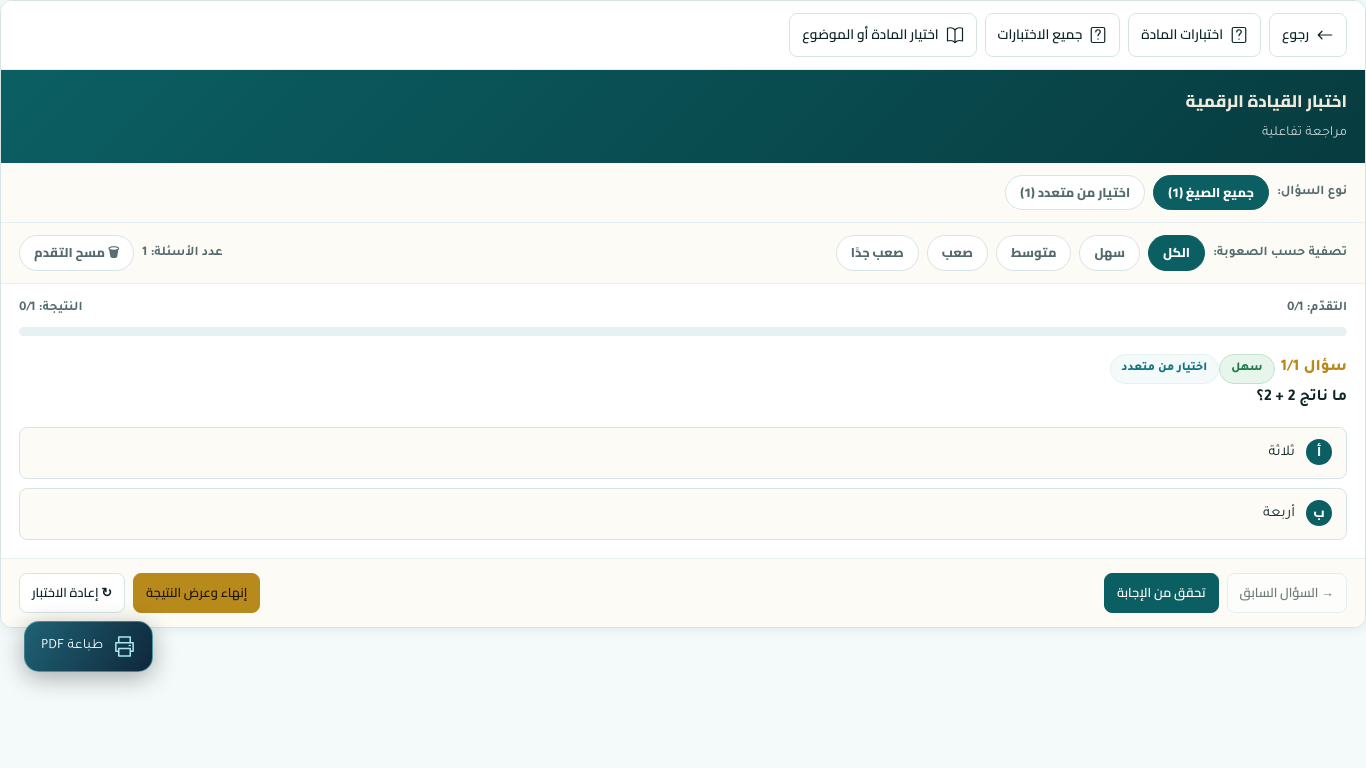
Test: leaving and resuming a quiz › still permits navigation and checking when browser storage is blocked
expect the link "جميع الاختبارات" is shown: met, box [985, 13, 1120, 57]
Click the button "أ ثلاثة". click: (1319, 452)
box: [19, 427, 1347, 479]
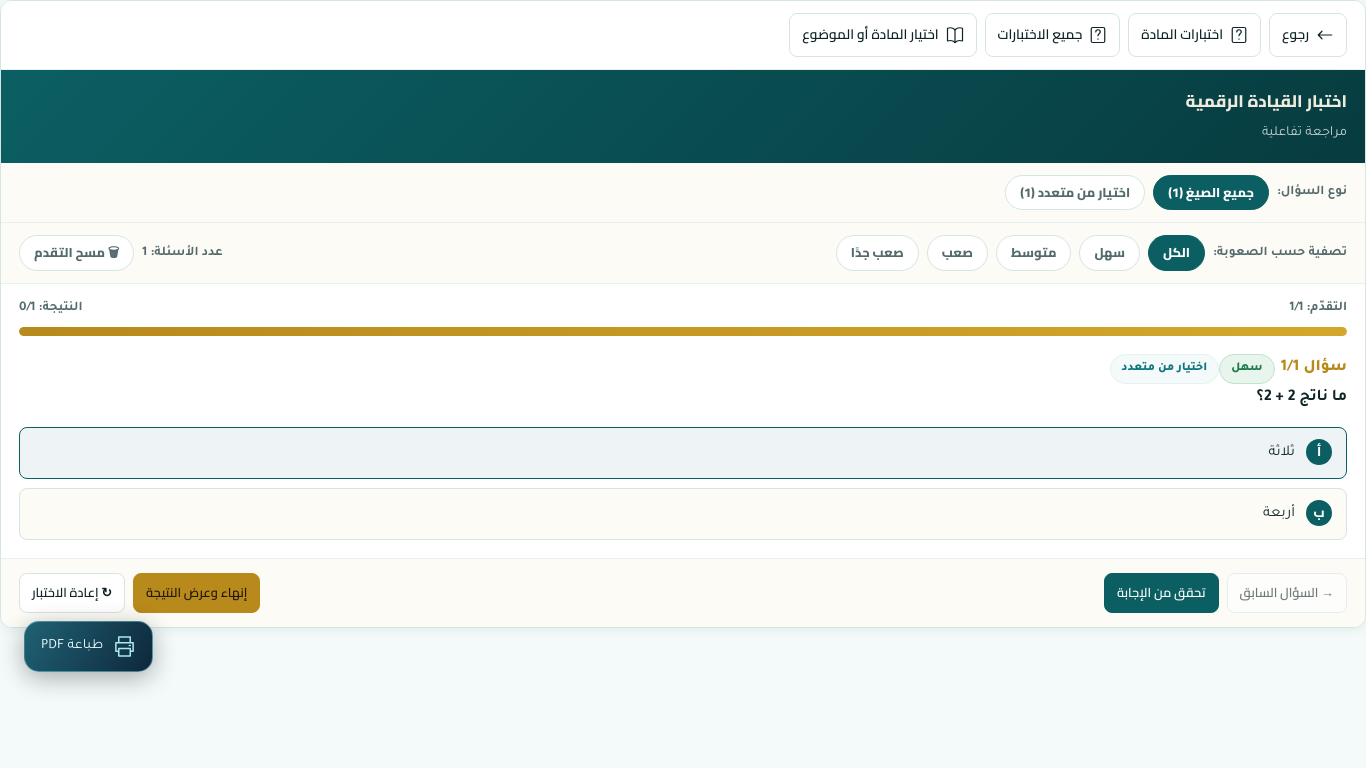
Click the button "تحقق من الإجابة". click: (1161, 593)
box: [1104, 573, 1219, 613]
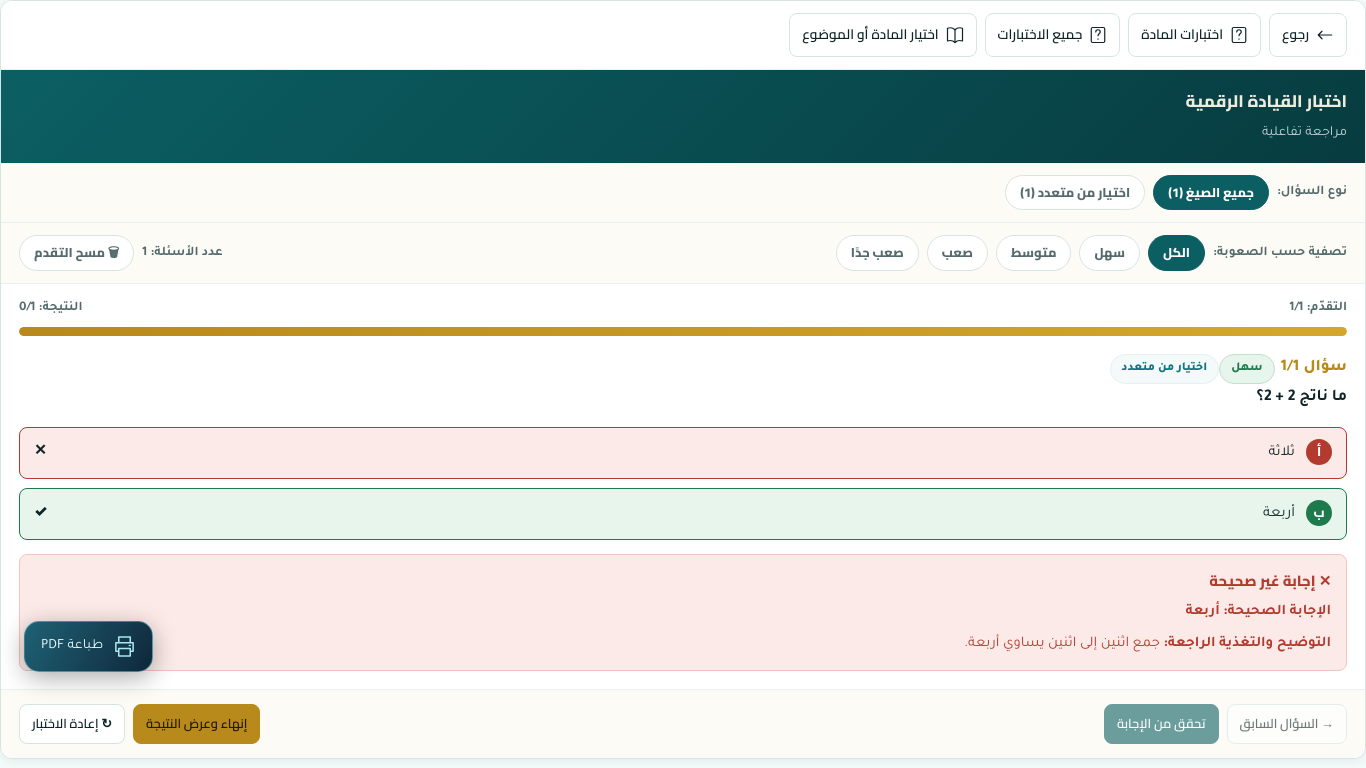
expect the text "✕ إجابة غير صحيحة" is shown: met, box [1209, 567, 1331, 594]
